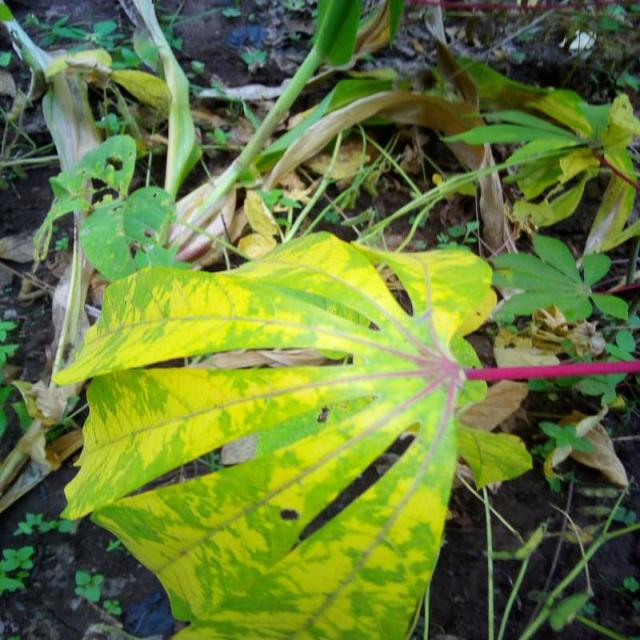cassava leaf: (55, 228, 499, 639)
